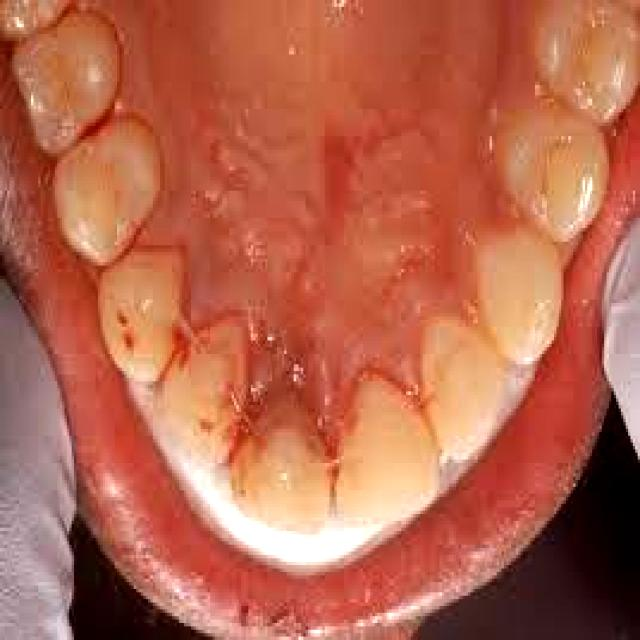tooth-discoloration: (497, 99, 607, 242), (229, 426, 327, 528)
